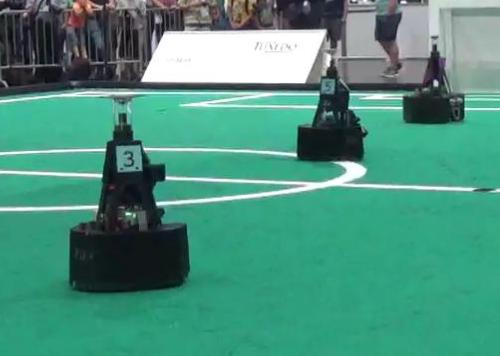robot: (64, 91, 193, 293), (292, 46, 368, 162), (399, 34, 471, 123)
